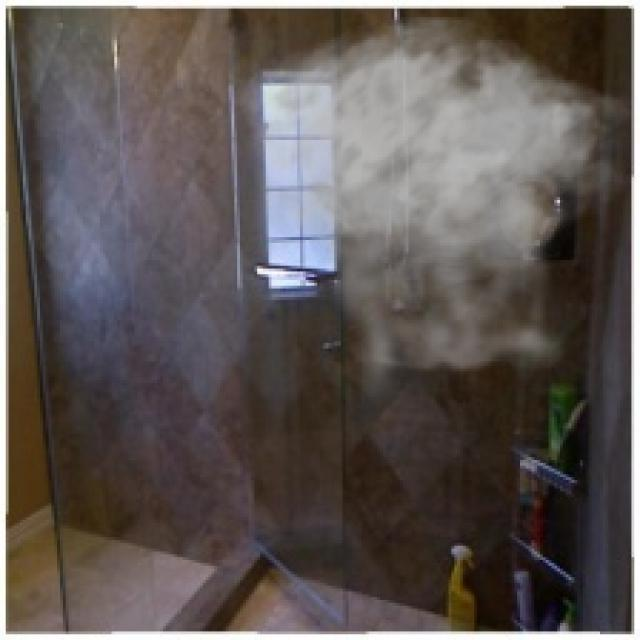Smoke: (234, 14, 637, 412)
